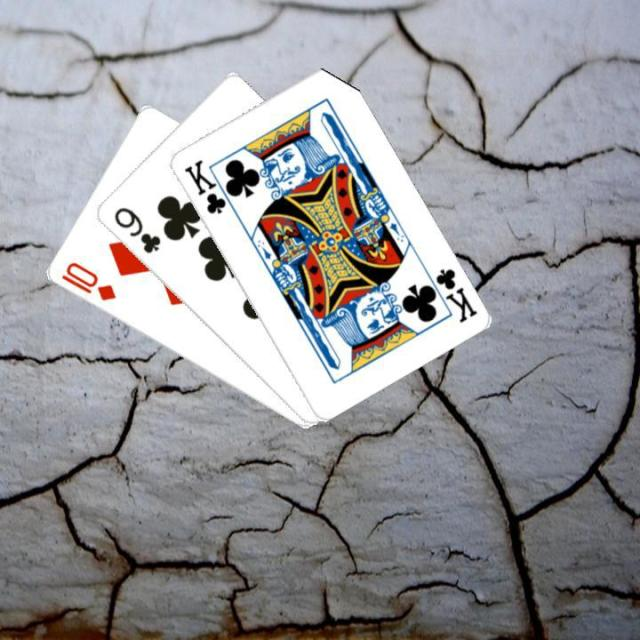10D: (57, 258, 117, 303)
9C: (109, 203, 163, 256)
KC: (180, 156, 238, 216), (420, 264, 478, 324)
